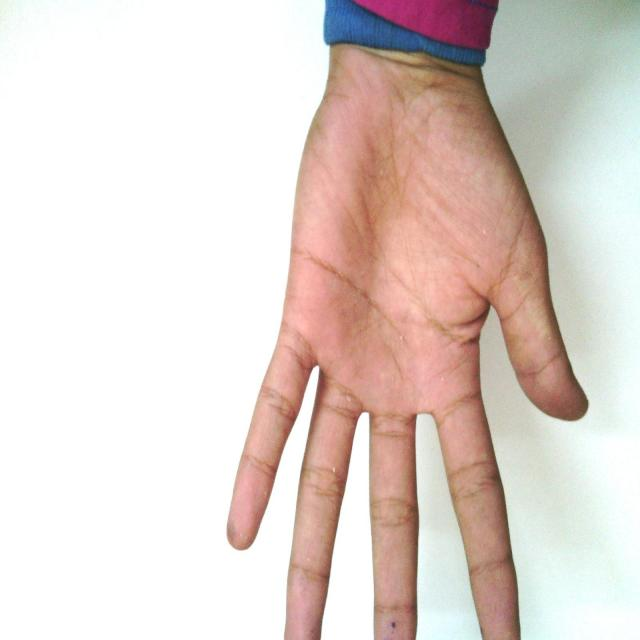others: (220, 0, 607, 640)
